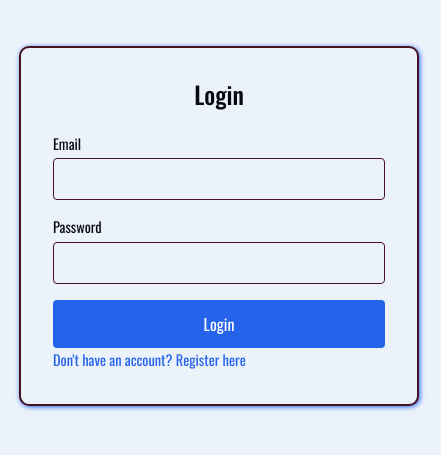
Test: LoginForm › shows error message when login fails
Type "test@example.com" into the field labelled "Email".
click(219, 179); type("test@example.com")  # box [53,158,385,200]
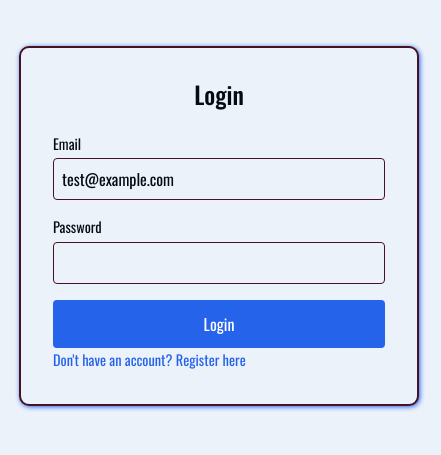
Type "wrong-password" into the password field labelled "Password".
click(219, 263); type("wrong-password")  # box [53,242,385,284]
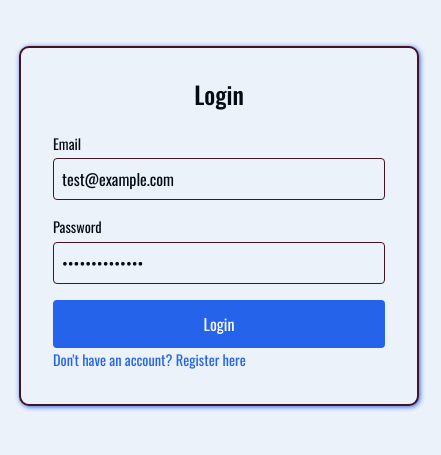
Submit the form from the button "Login", box [53,300,385,348]
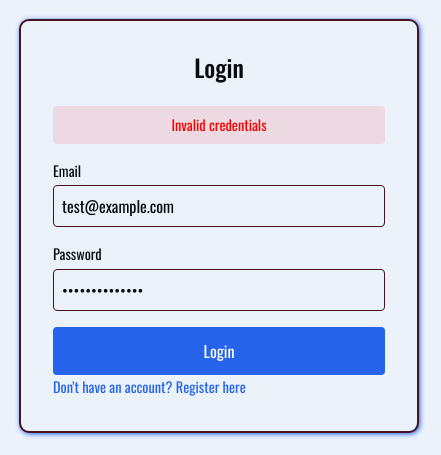
Expected: the text "Invalid credentials" is shown, [53,106,385,144]
